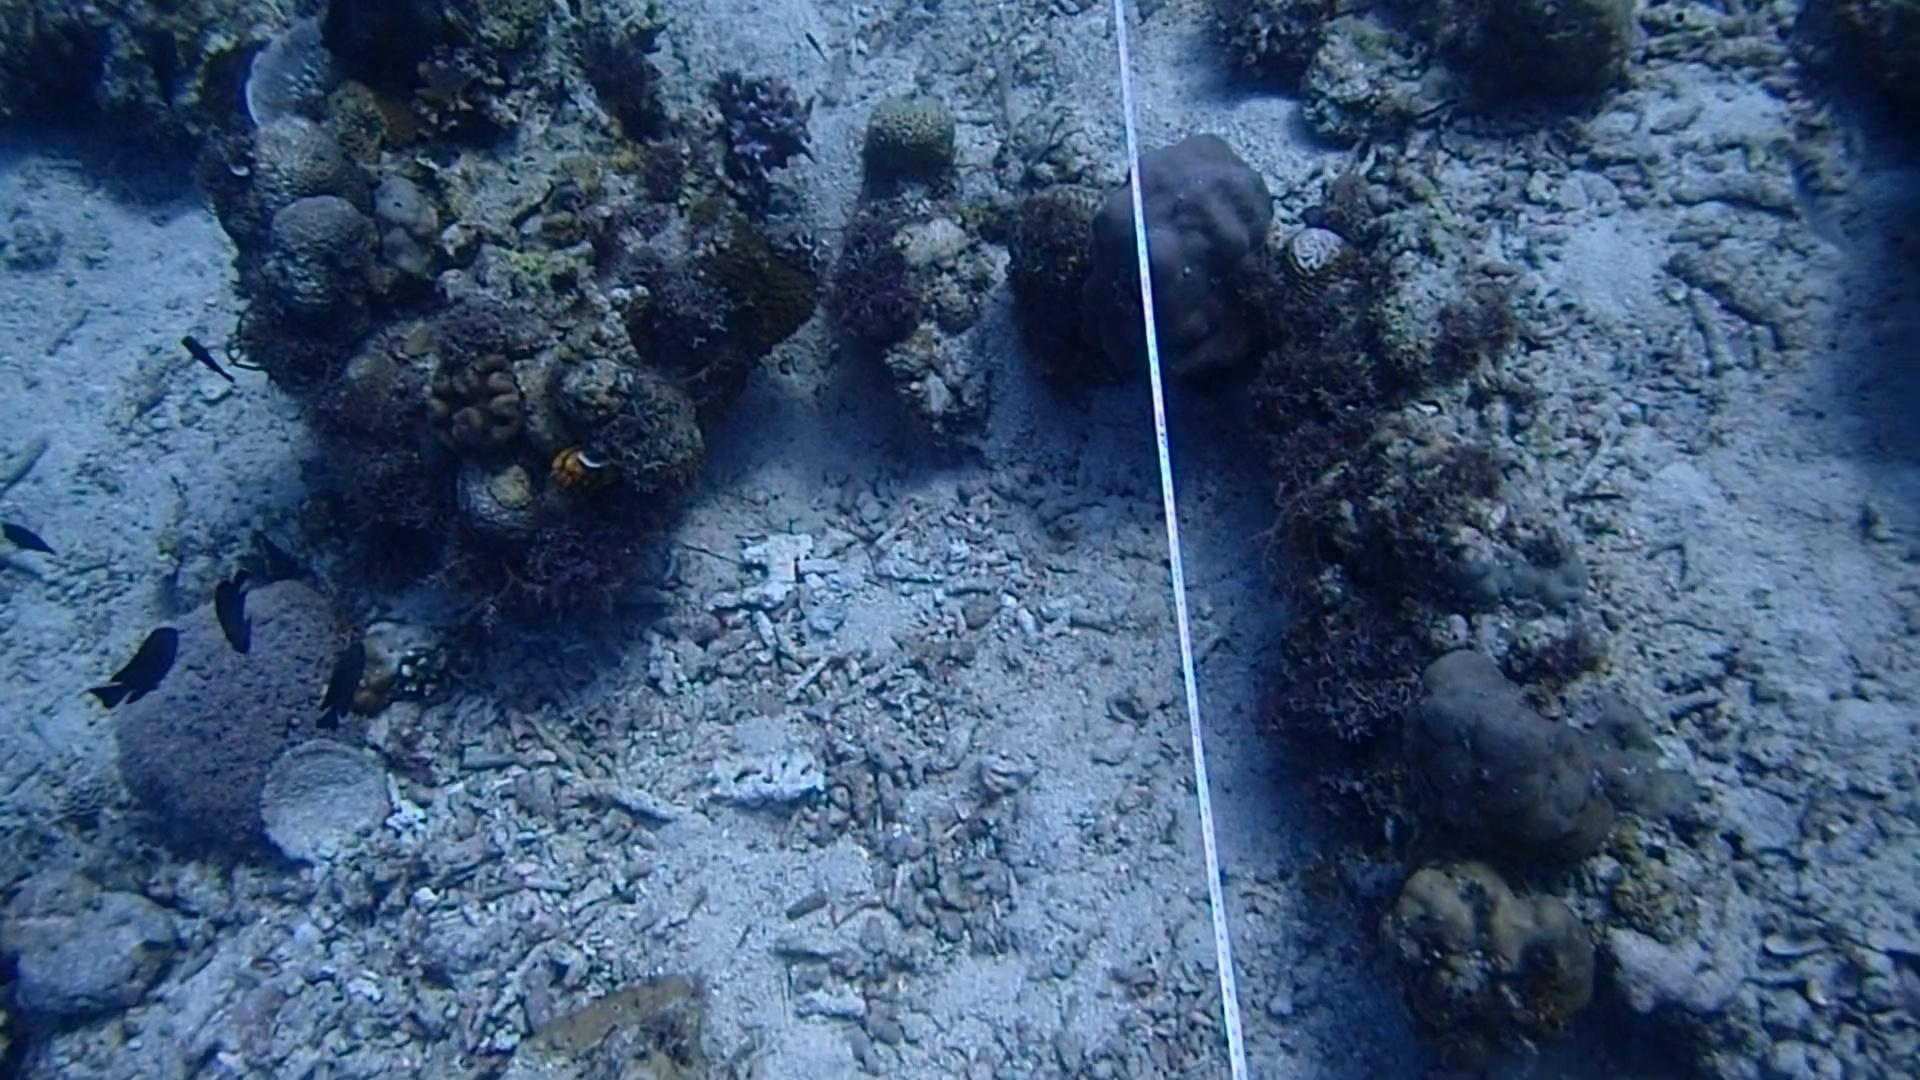Dark Fish: (95, 616, 185, 720), (302, 629, 389, 733), (206, 555, 262, 659), (169, 324, 247, 394), (146, 18, 194, 117), (0, 505, 69, 572)
Light Fish w Back Stripes: (1770, 129, 1867, 262)
